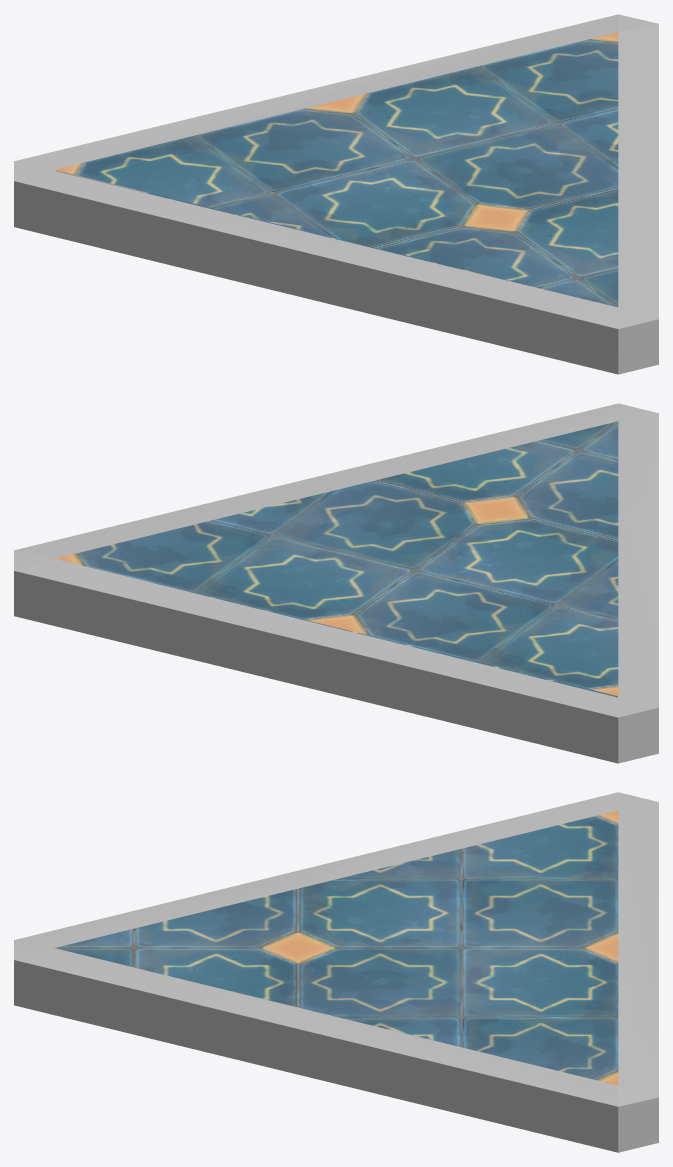
3 views of the same model, one above another, from view 1: azimuth 30°, elevation 25°; view 2: azimuth 150°, elevation 25°; view 3: azimuth 270°, elevation 25° (orthographic).
Parts seen in each view (by area): view 1: SM_BB_T4_Floor_Triangle_Large_01_LOD0; view 2: SM_BB_T4_Floor_Triangle_Large_01_LOD0; view 3: SM_BB_T4_Floor_Triangle_Large_01_LOD0.
Boxes of the visible parts, left/top/right/bottom form: SM_BB_T4_Floor_Triangle_Large_01_LOD0: left=14, top=14, right=658, bottom=374; SM_BB_T4_Floor_Triangle_Large_01_LOD0: left=14, top=403, right=658, bottom=763; SM_BB_T4_Floor_Triangle_Large_01_LOD0: left=14, top=792, right=658, bottom=1152.
Bounding box in the file's own units: 3.43 × 0.2414 × 2.97.
